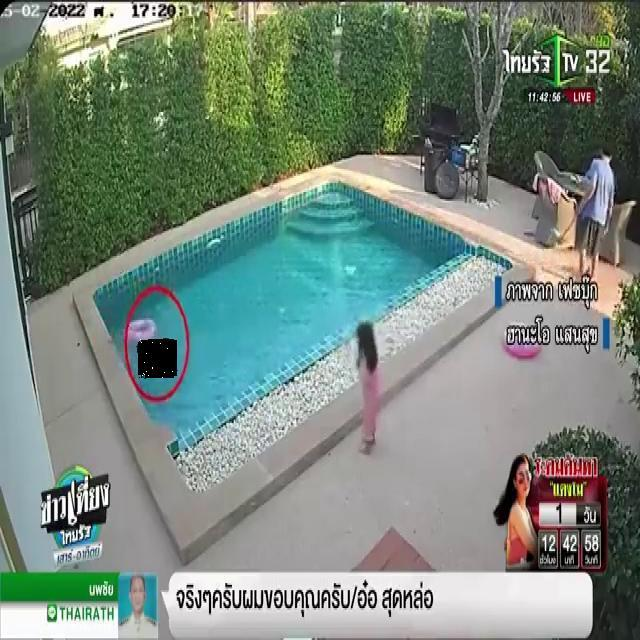Out of Water: (138, 339, 177, 378)
